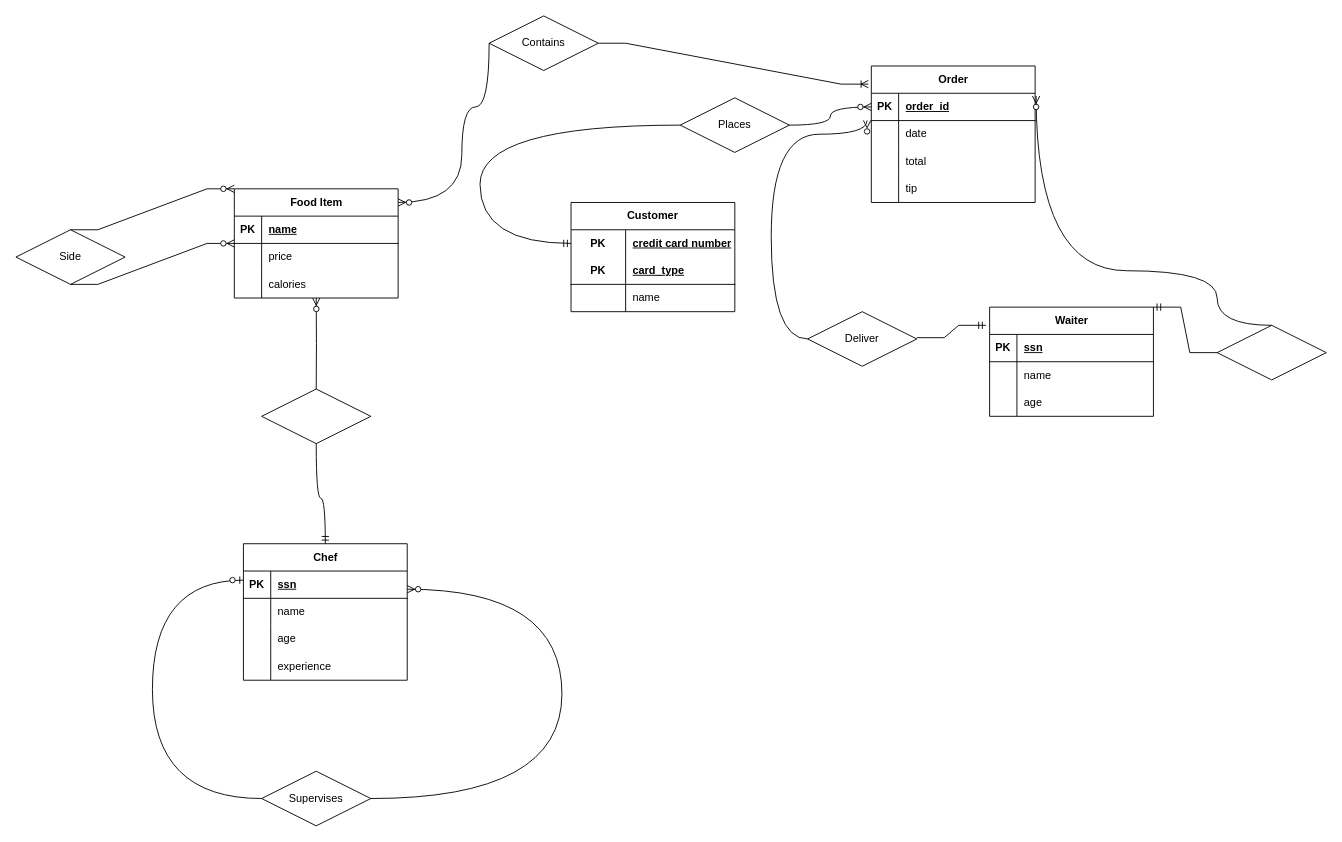
Image size: 1342x842. Some labels were removed from this diagram. The centre of each missing label's shape, as x and y in pixels:
"Cooks" goes at (316,416).
"Payment" goes at (1271,352).
